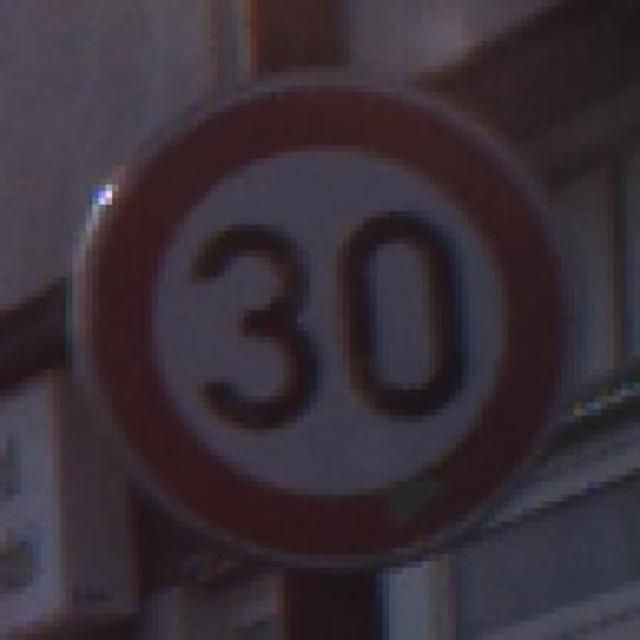Speed Limit 30 KMPh: (40, 53, 594, 581)
